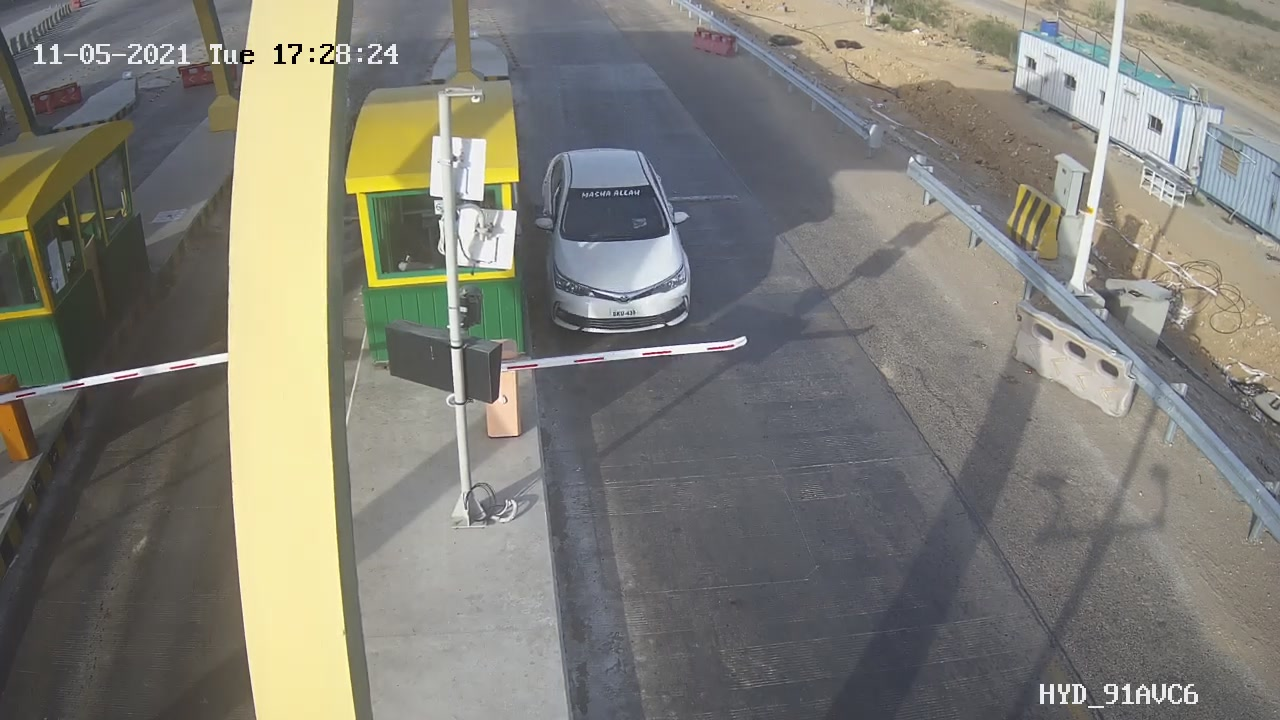F1: (522, 135, 720, 355)
